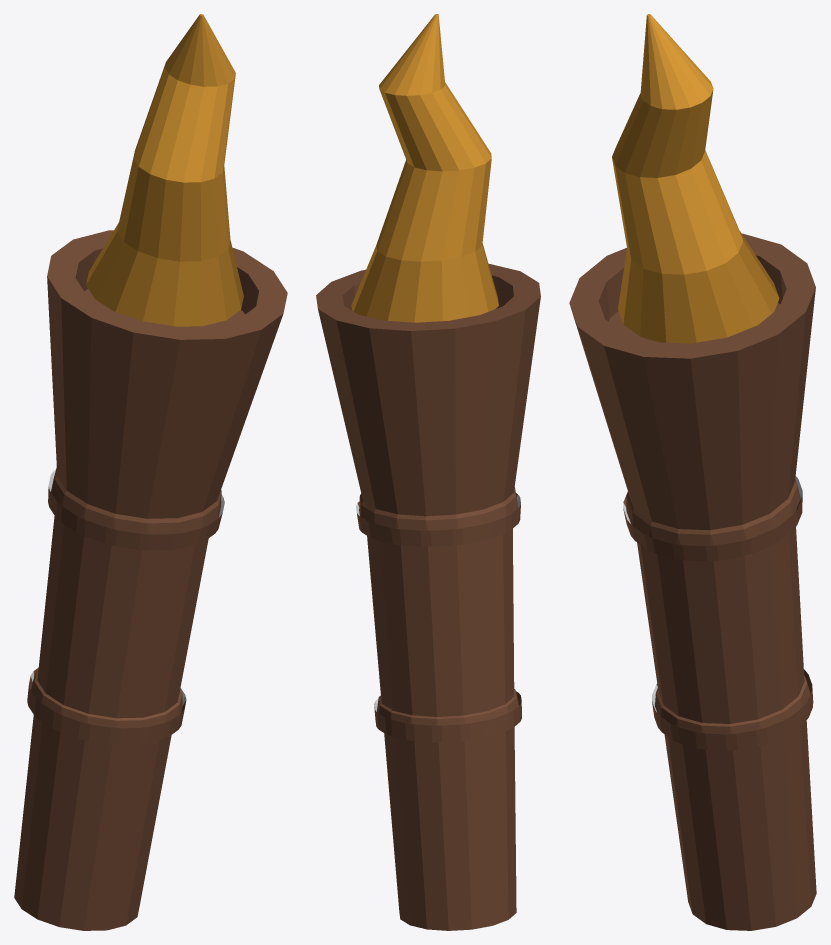
The model's file is torch.fbx.
3 views of the same model, side by side, from view 1: azimuth 30°, elevation 25°; view 2: azimuth 150°, elevation 25°; view 3: azimuth 270°, elevation 25° (orthographic). The views are drawn at different scales.
Parts seen in each view (by area): view 1: Torch_Base, Flame; view 2: Torch_Base, Flame; view 3: Torch_Base, Flame.
Part boxes in pixels (x1,y1,x2,y2): Torch_Base: (14, 230, 287, 930); Flame: (86, 14, 243, 326); Torch_Base: (316, 263, 540, 930); Flame: (351, 14, 498, 322); Torch_Base: (569, 233, 816, 930); Flame: (612, 14, 779, 343).
Bounding box in the file's own units: 3.28 × 12.96 × 3.13.
